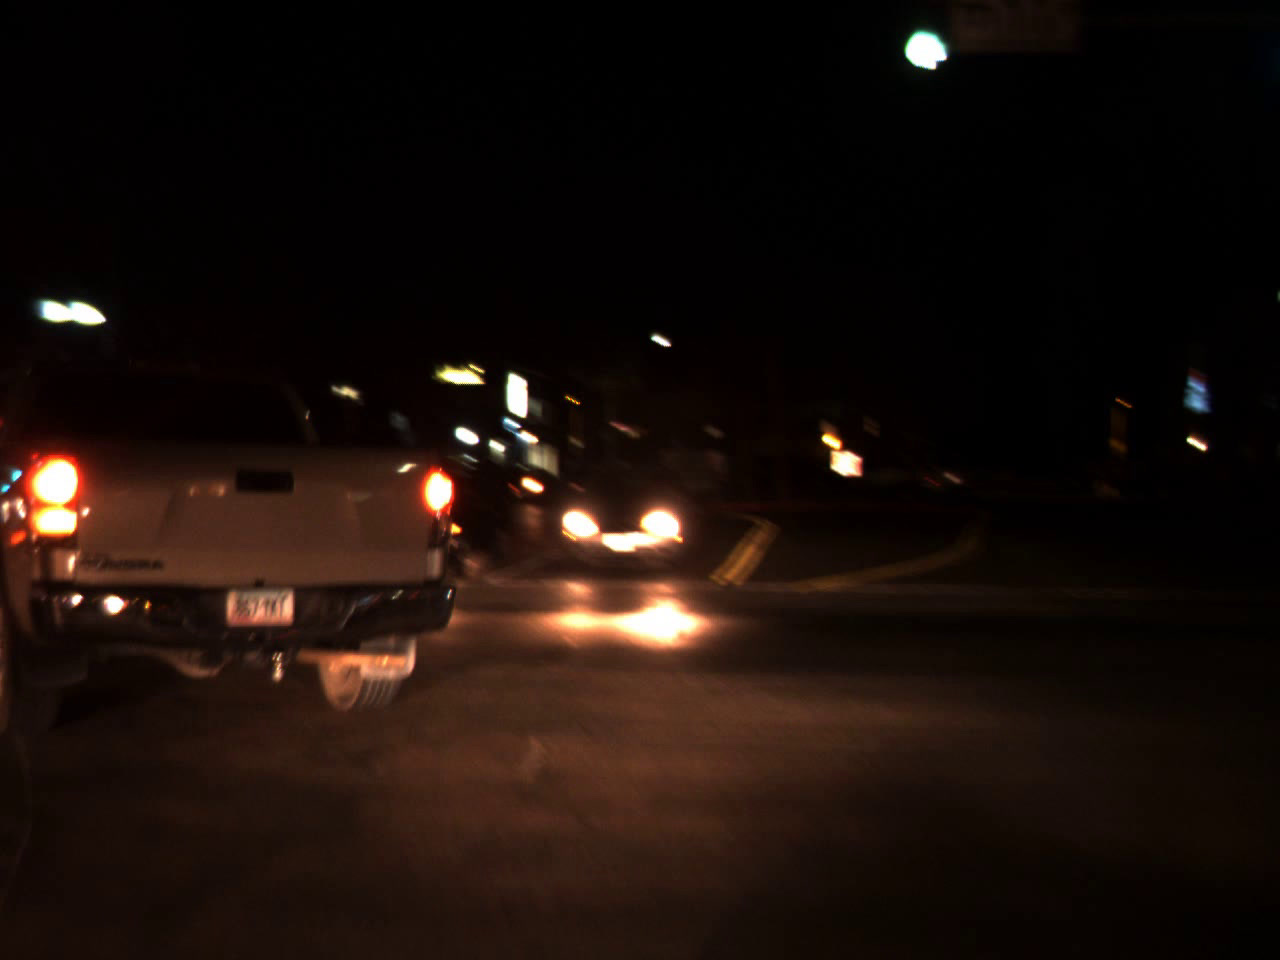go: (870, 0, 965, 91)
